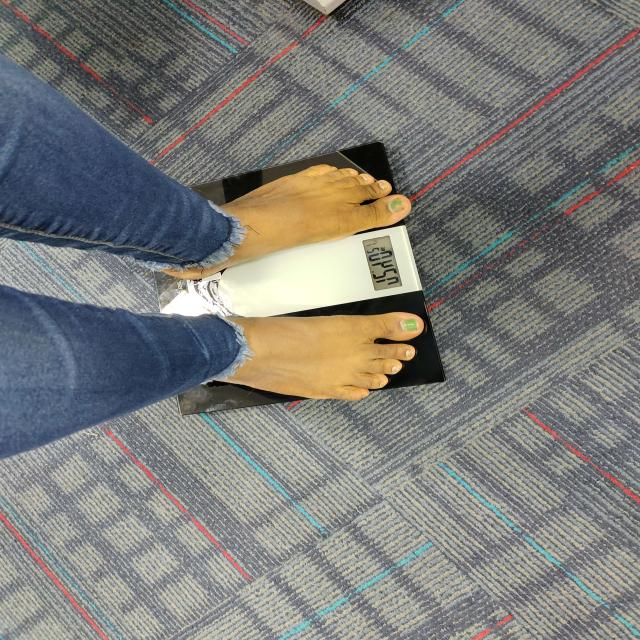ws: (213, 222, 422, 320)
